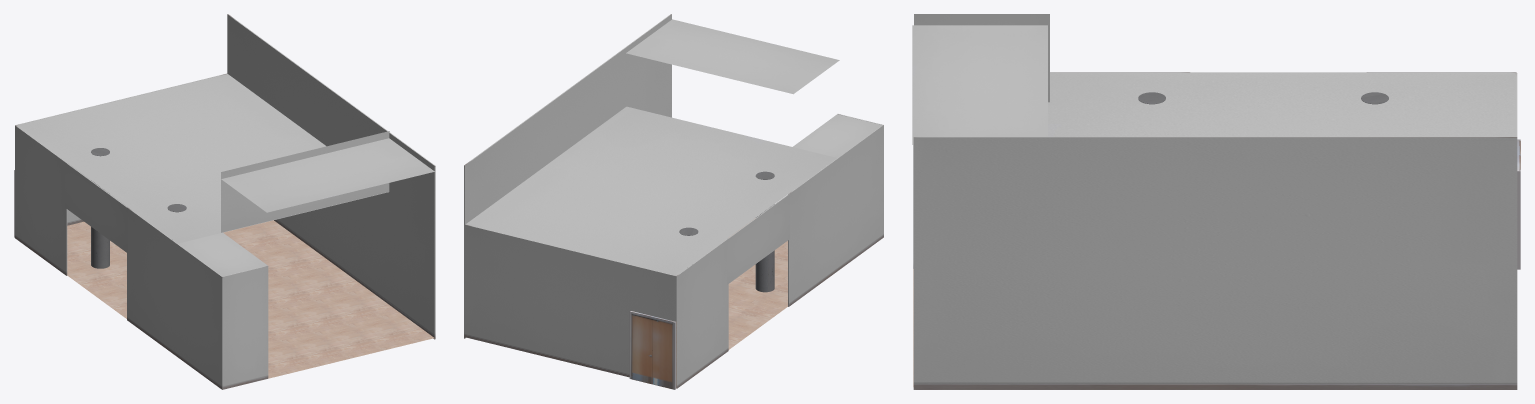
The model's file is trinitytest.glb.
3 renders of one model, left to right at view 1: azimuth 30°, elevation 25°; view 2: azimuth 150°, elevation 25°; view 3: azimuth 270°, elevation 25°, orthographic. The views are drawn at different scales.
Parts seen in each view (by area): view 1: backwall; view 2: backwall; view 3: backwall.
Part boxes in pixels (<box>): backwall: <box>14,14,435,389</box>; backwall: <box>464,14,883,389</box>; backwall: <box>912,14,1520,389</box>.
Bounding box in the file's own units: 23.17 × 18.18 × 39.28.
Materials: 6 (6 with a texture image).
